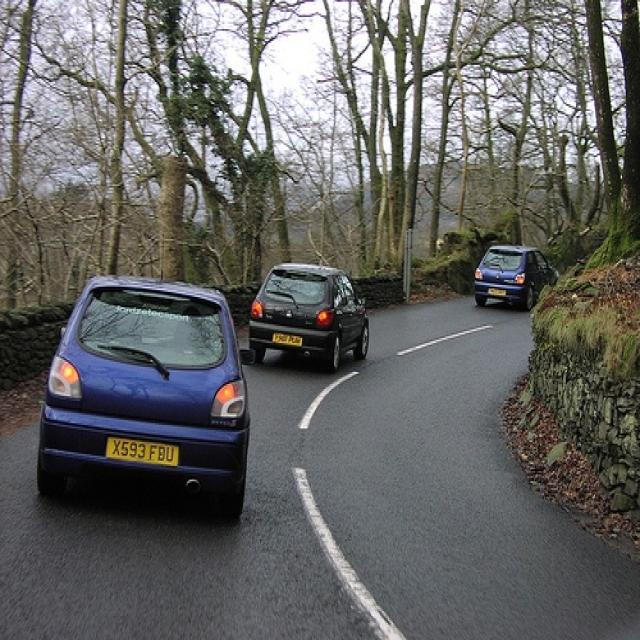car: (34, 272, 250, 520), (247, 263, 371, 370), (474, 241, 558, 309)
